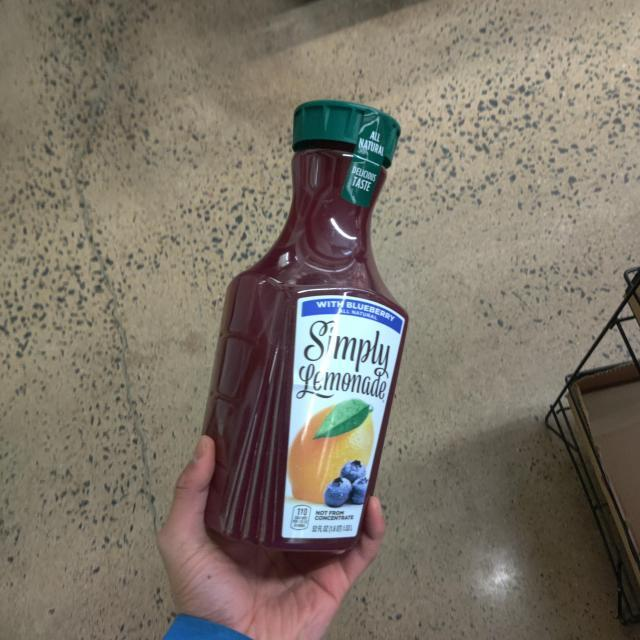Juice: (184, 83, 444, 584)
